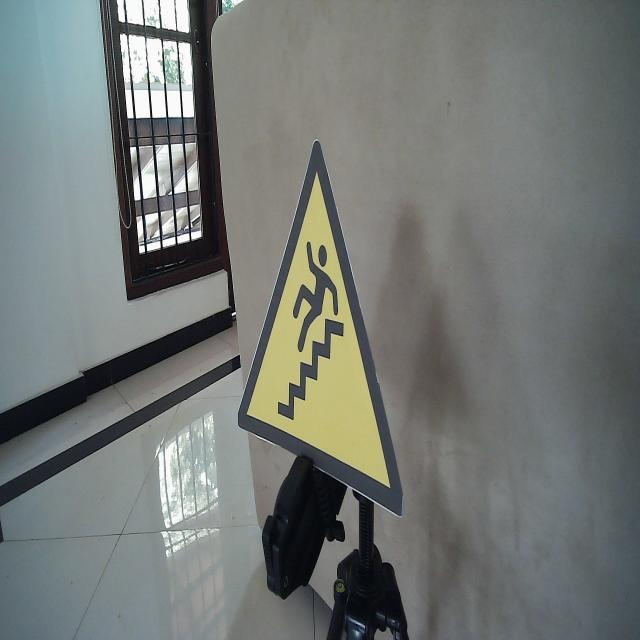stairs: (235, 135, 406, 520)
